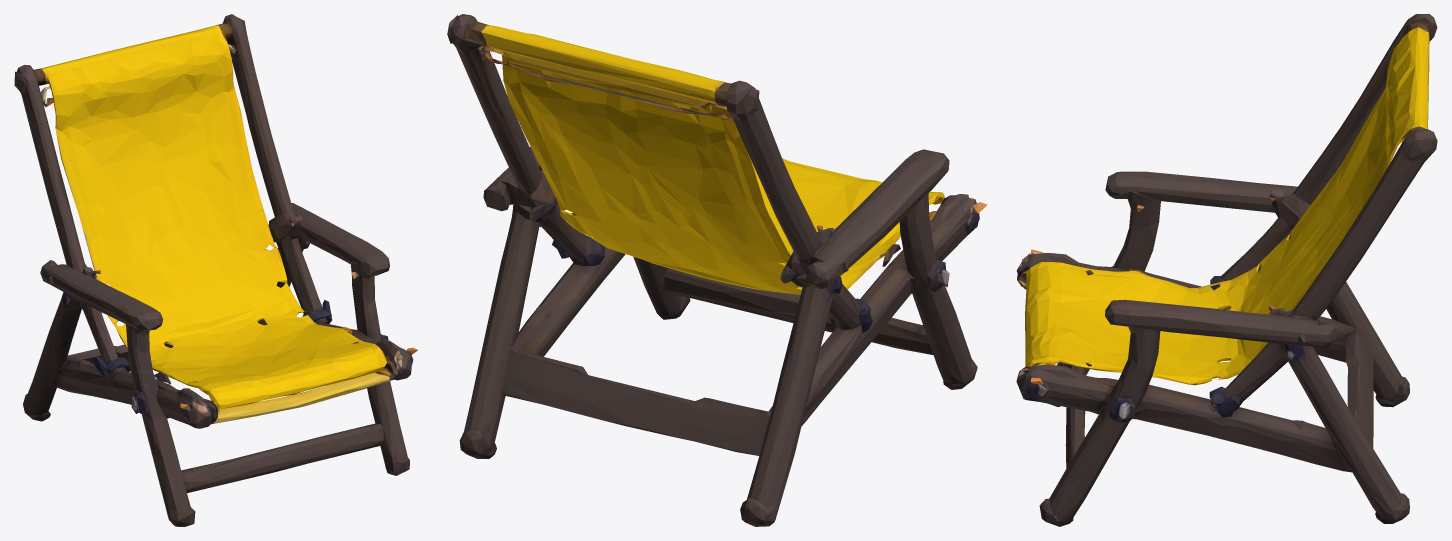
The model's file is deco_beach_chair.glb.
3 renders of one model, left to right at view 1: azimuth 30°, elevation 25°; view 2: azimuth 150°, elevation 25°; view 3: azimuth 270°, elevation 25°, orthographic. The views are drawn at different scales.
Visible parts, largest first — view 1: world; view 2: world; view 3: world.
Boxes of the visible parts, x1,y1,x2,y2 form: world: [14, 14, 417, 526]; world: [447, 14, 987, 526]; world: [1016, 14, 1437, 526].
Size of the model in its own units: 0.8046 by 1 by 0.972.
1 material, 1 textured.
